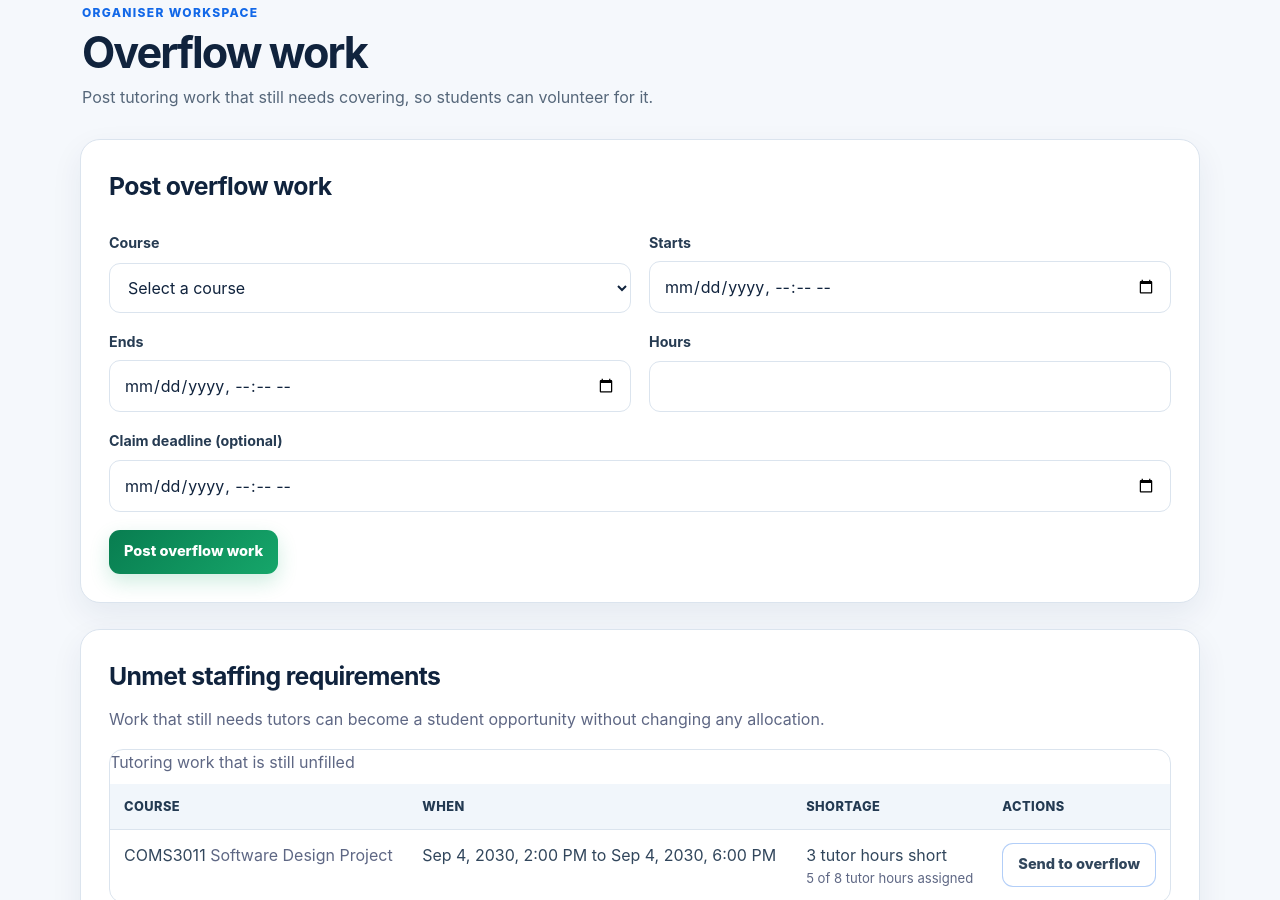
Test case: OrganiserOverflow › prefills the form from an unmet requirement and posts the conversion with its link
Click the button "Send to overflow" at point(1079, 865), box x1=1002 y1=843 x2=1156 y2=887
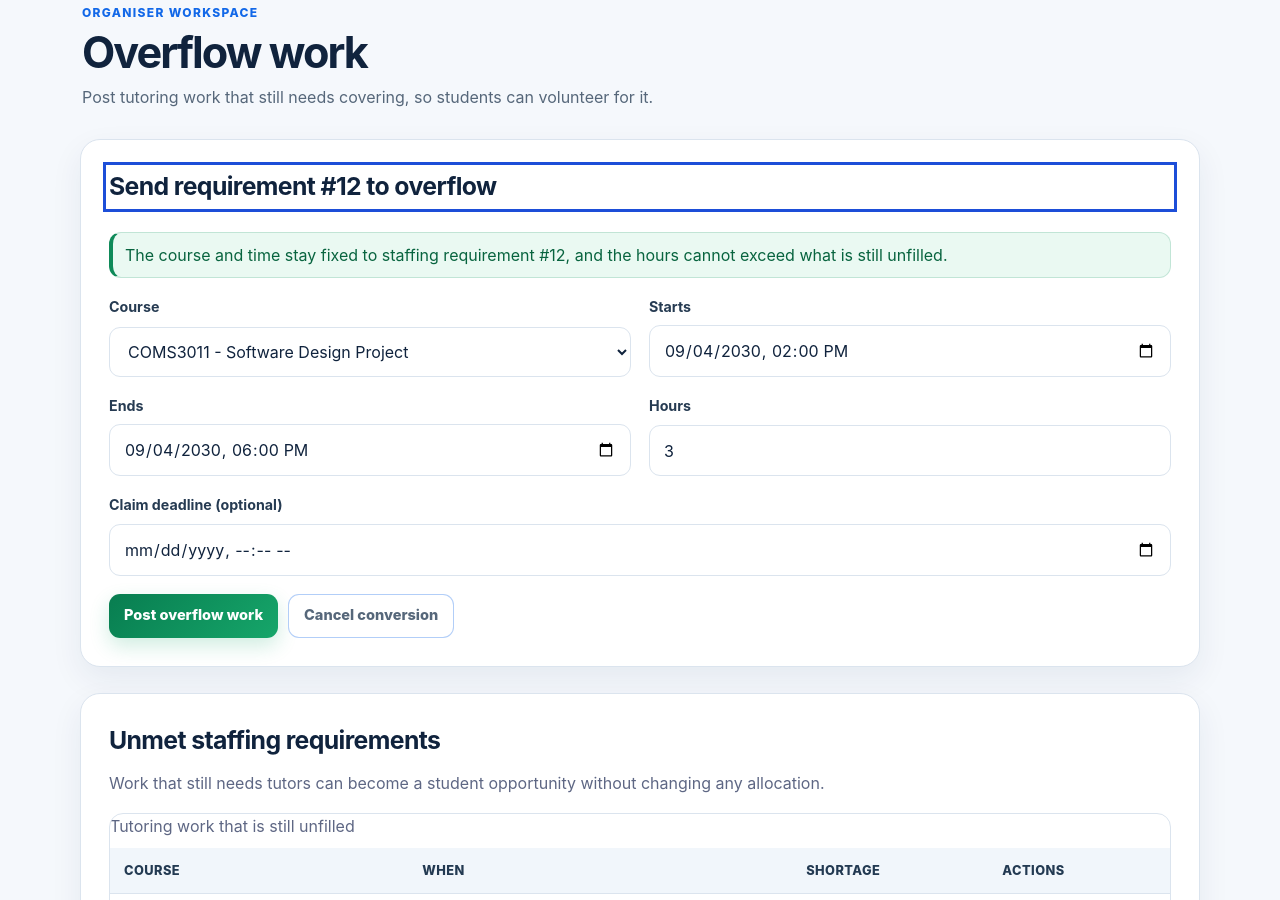
Check: the dropdown labelled "Course" shows "COMS3011 - Software Design Project", box x1=109 y1=327 x2=631 y2=377
Check: the number field labelled "Hours" holds "3", box x1=649 y1=425 x2=1171 y2=476
Check: the text "stay fixed to staffing requirement #12" is shown, box x1=109 y1=232 x2=1171 y2=278
Click the button "Post overflow work" at point(194, 616), box x1=109 y1=594 x2=278 y2=638
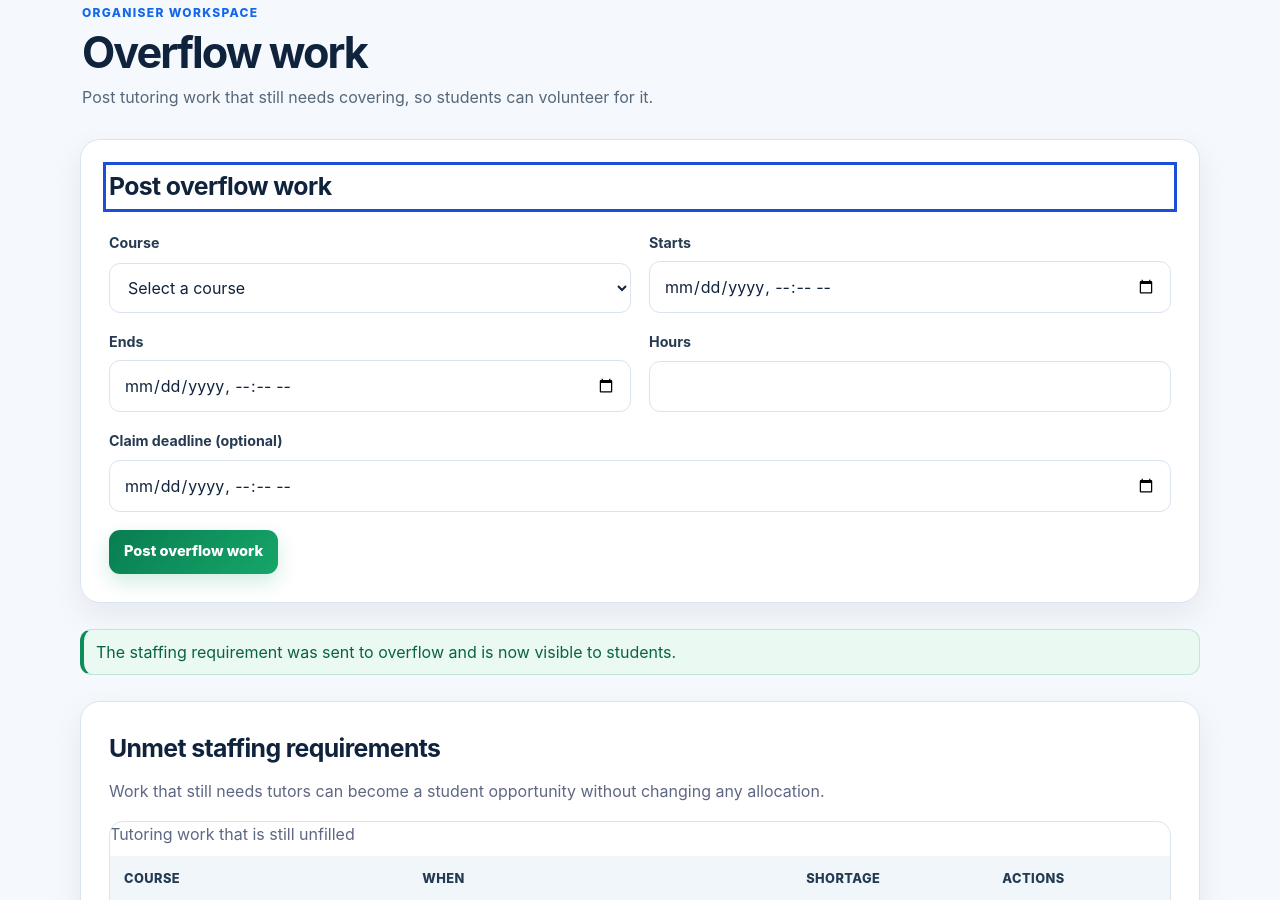
Check: the text "The staffing requirement was sent to overflow and is now visible to students." is shown, box x1=80 y1=629 x2=1200 y2=675
